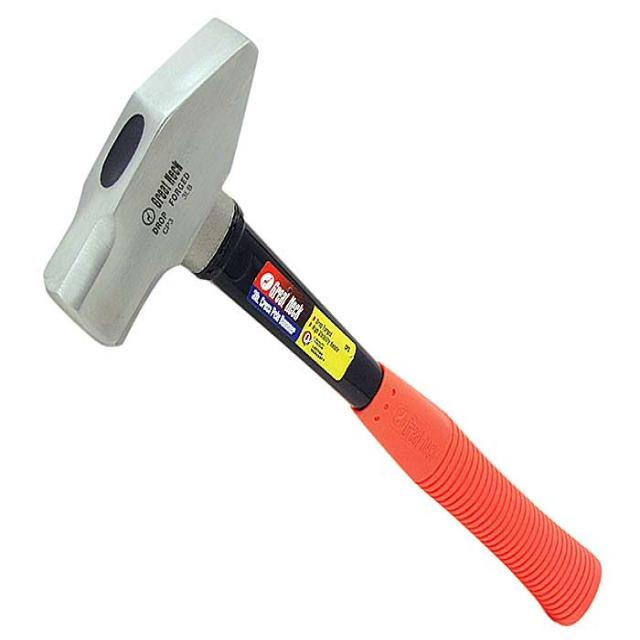hammer: (10, 13, 640, 640)
